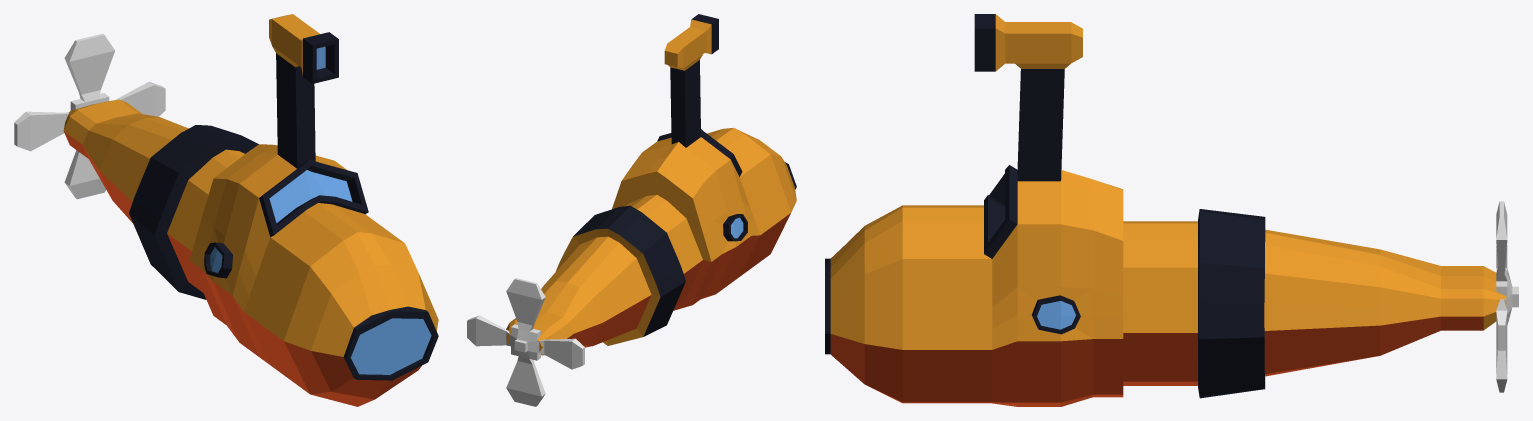
Rendered from sousMArin.fbx.
3 renders of one model, left to right at view 1: azimuth 30°, elevation 25°; view 2: azimuth 150°, elevation 25°; view 3: azimuth 270°, elevation 25°, orthographic. The views are drawn at different scales.
Visible parts, largest first — view 1: Cylinder, helice.002; view 2: Cylinder, helice.002; view 3: Cylinder, helice.002.
Part boxes in pixels (x1,y1,x2,y2): Cylinder: (63,14,438,406); helice.002: (14,33,165,199); Cylinder: (506,14,796,355); helice.002: (467,278,584,406); Cylinder: (825,14,1506,406); helice.002: (1496,201,1518,392).
Size of the model in its own units: 915 by 1874 by 3055.
